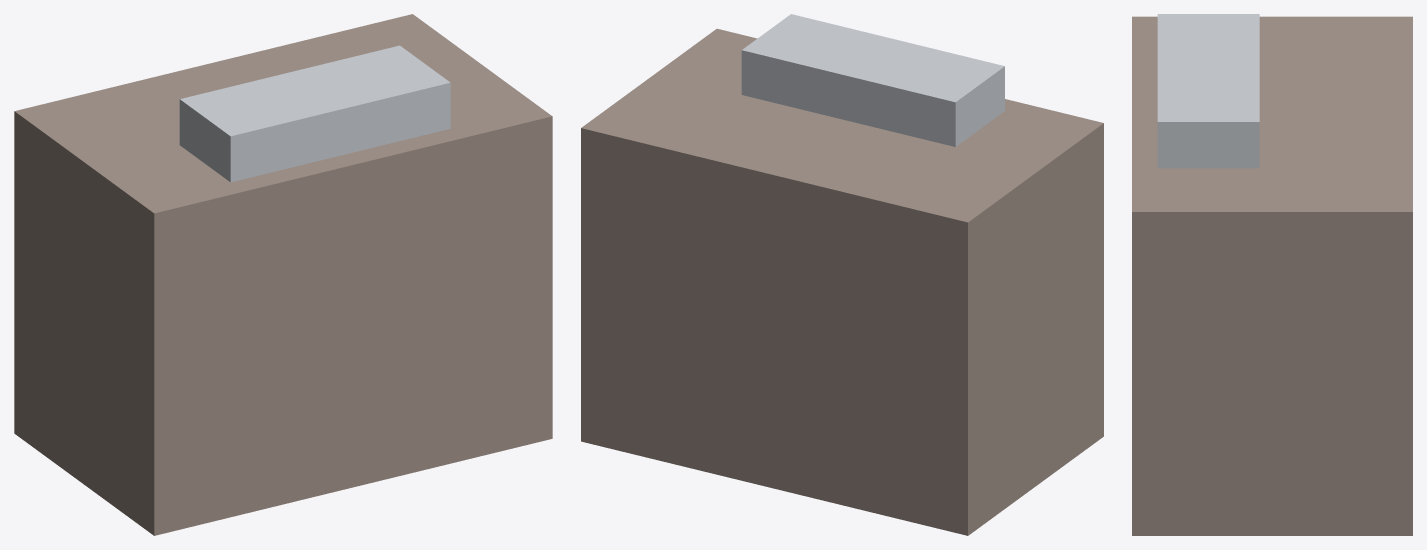
File: prop.glb
The picture shows the model from 3 angles, left to right: view 1: azimuth 30°, elevation 25°; view 2: azimuth 150°, elevation 25°; view 3: azimuth 270°, elevation 25°; orthographic projection. The views are drawn at different scales.
Visible parts, largest first — view 1: Cloth, Metal; view 2: Cloth, Metal; view 3: Cloth, Metal.
Part boxes in pixels (box(x1,y1,x2,y2)): Cloth: box(14, 14, 552, 535); Metal: box(179, 45, 450, 182); Cloth: box(581, 28, 1103, 535); Metal: box(741, 14, 1004, 146); Cloth: box(1132, 16, 1412, 535); Metal: box(1157, 14, 1259, 168).
Size of the model in its own units: 0.3619 by 0.32 by 0.22.
